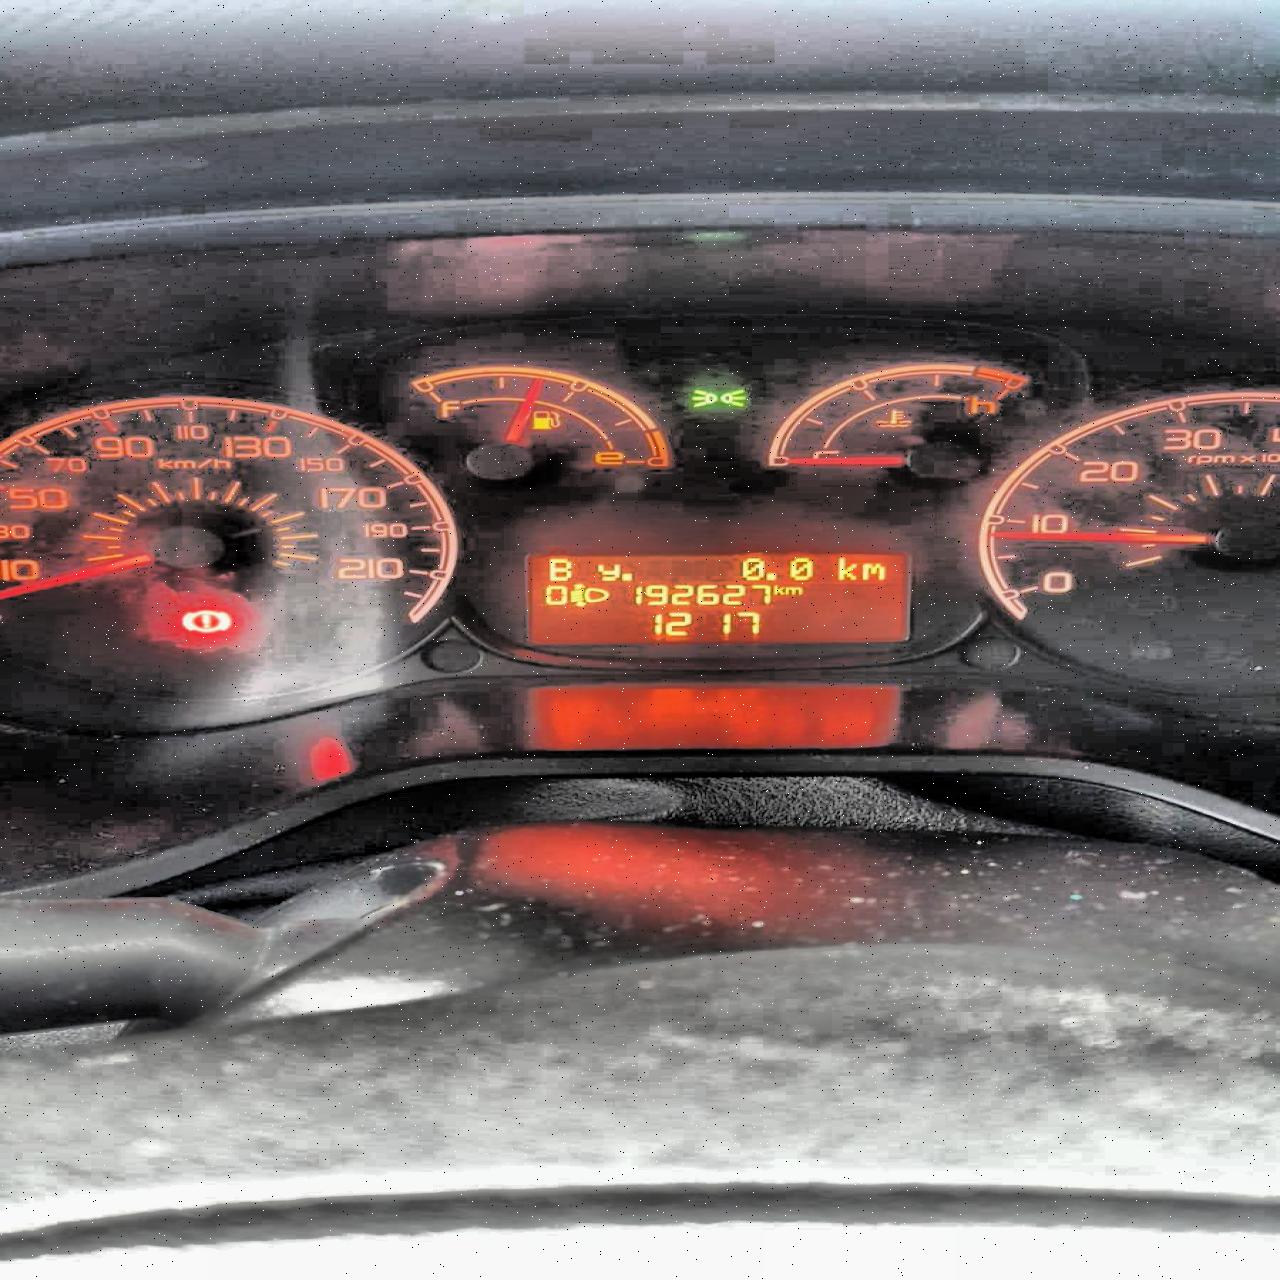-: (763, 570, 777, 580), (622, 571, 636, 580)
0: (789, 557, 815, 581), (741, 556, 762, 581), (543, 584, 568, 605)
1: (717, 610, 731, 638), (649, 610, 663, 636), (632, 584, 644, 607)
2: (665, 610, 692, 636), (722, 583, 745, 607), (670, 583, 693, 605)
6: (695, 583, 719, 606)
7: (735, 610, 761, 636), (749, 583, 772, 606)
9: (645, 583, 668, 605)
X: (547, 557, 571, 580), (836, 556, 857, 580), (595, 563, 620, 583), (862, 561, 885, 580), (784, 586, 804, 595), (774, 583, 784, 595)
odometer: (524, 546, 920, 645)
